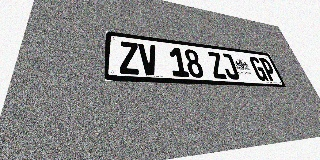1: (168, 47, 189, 77)
8: (183, 49, 205, 78)
G: (248, 56, 269, 81)
J: (219, 53, 240, 80)
P: (258, 58, 279, 82)
V: (138, 43, 159, 76)
Z: (119, 41, 140, 75), (207, 51, 228, 79)
